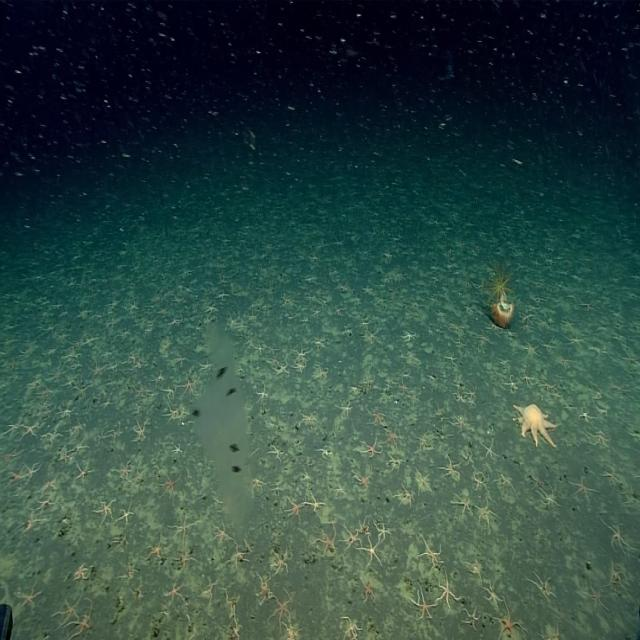brittle-stars: (605, 523, 633, 556), (497, 606, 523, 640), (271, 592, 294, 628), (17, 578, 42, 610), (438, 573, 460, 609), (412, 587, 436, 620), (532, 571, 558, 601), (73, 602, 94, 638), (582, 583, 607, 612), (420, 540, 443, 570), (315, 525, 337, 556), (170, 514, 195, 541), (56, 596, 80, 623), (609, 560, 629, 592), (569, 476, 592, 502), (477, 500, 498, 528), (360, 536, 380, 565), (163, 581, 186, 605), (21, 511, 44, 534), (174, 548, 196, 571), (452, 493, 473, 517), (160, 473, 181, 497), (484, 580, 503, 606), (256, 574, 273, 603), (272, 550, 290, 577), (341, 617, 362, 640), (147, 533, 164, 560), (96, 498, 115, 522), (541, 623, 567, 640), (538, 486, 558, 508), (360, 438, 380, 460), (395, 485, 414, 508), (212, 521, 230, 545), (232, 544, 250, 568), (342, 525, 361, 547), (442, 456, 461, 478), (384, 426, 402, 449), (74, 459, 92, 482), (224, 592, 242, 615), (416, 470, 433, 494), (463, 606, 480, 630), (306, 492, 326, 512), (117, 504, 134, 527), (105, 423, 123, 444), (24, 462, 42, 483), (360, 579, 375, 604), (354, 467, 371, 489), (38, 478, 57, 497), (42, 426, 62, 444), (602, 466, 620, 486), (482, 441, 499, 462), (134, 419, 149, 442), (451, 413, 469, 432), (591, 428, 610, 446), (74, 562, 90, 582), (233, 615, 248, 636), (229, 618, 243, 640), (286, 498, 303, 516), (367, 409, 384, 427), (36, 495, 54, 512), (250, 476, 266, 495), (282, 624, 301, 640), (376, 520, 390, 541), (132, 468, 146, 489), (134, 382, 151, 399), (180, 378, 196, 396), (23, 421, 39, 439), (69, 420, 85, 438), (418, 430, 431, 452), (496, 474, 513, 490), (520, 370, 535, 388), (564, 334, 582, 349), (118, 461, 132, 480), (302, 412, 318, 428), (172, 351, 188, 367), (72, 441, 88, 457), (339, 402, 354, 419), (271, 445, 286, 462), (524, 340, 539, 357), (60, 404, 75, 421), (255, 382, 267, 402), (538, 338, 554, 353), (539, 379, 555, 394), (91, 361, 106, 377), (388, 454, 402, 471), (166, 405, 180, 422), (530, 471, 544, 488), (314, 364, 328, 380), (472, 474, 485, 491), (294, 346, 309, 360), (276, 360, 289, 376), (402, 329, 418, 342), (450, 321, 466, 334), (581, 408, 594, 424), (462, 449, 474, 466), (200, 359, 214, 373), (318, 446, 332, 460), (164, 385, 177, 400), (446, 351, 459, 366), (314, 336, 327, 351), (508, 375, 520, 391), (365, 328, 378, 342), (60, 448, 71, 464), (398, 378, 408, 395), (292, 360, 306, 372), (216, 289, 229, 301), (206, 303, 218, 316), (465, 386, 476, 400), (455, 390, 466, 404), (562, 318, 574, 330), (172, 444, 183, 457), (247, 311, 258, 324), (268, 342, 278, 356), (302, 469, 312, 483), (312, 307, 323, 319), (306, 290, 317, 302), (362, 284, 372, 296)
